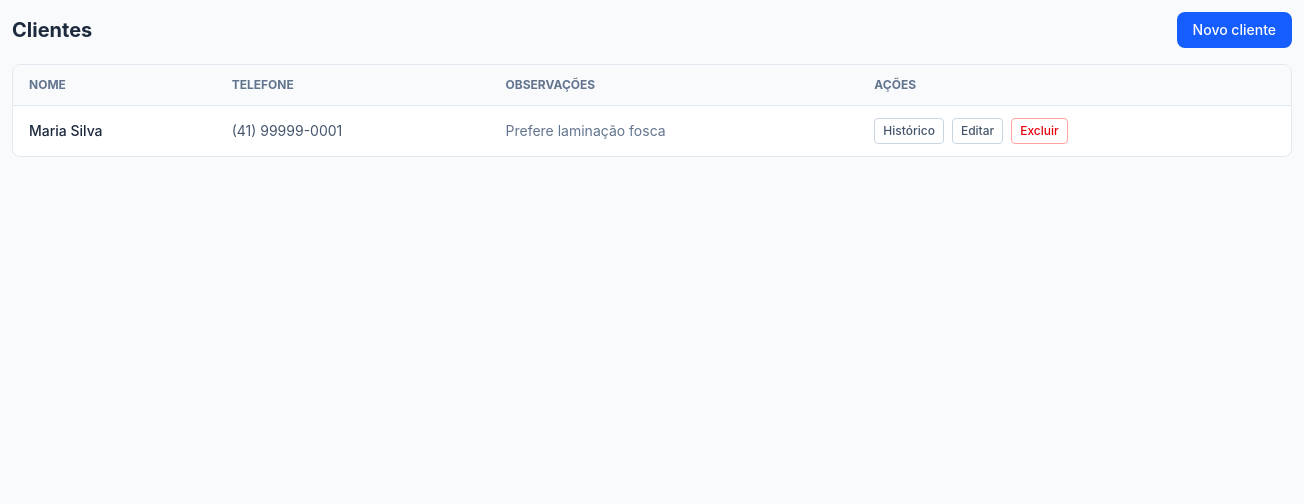
Test case: ClientesPage — criar e editar › cria cliente pelo formulário
Check: the text "Maria Silva" is shown, box x1=13 y1=106 x2=216 y2=156
Step 1. Click the button "Novo cliente" → (1234, 30), box x1=1177 y1=12 x2=1292 y2=48
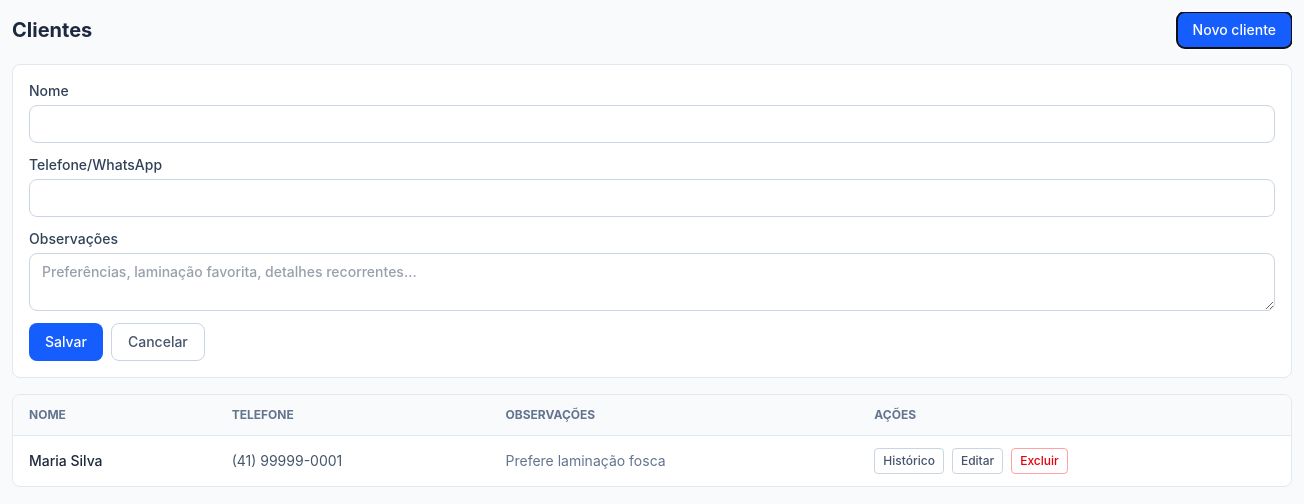
Step 2. Type "Joana Lima" into the field labelled "Nome" → (652, 124), box x1=29 y1=105 x2=1275 y2=143
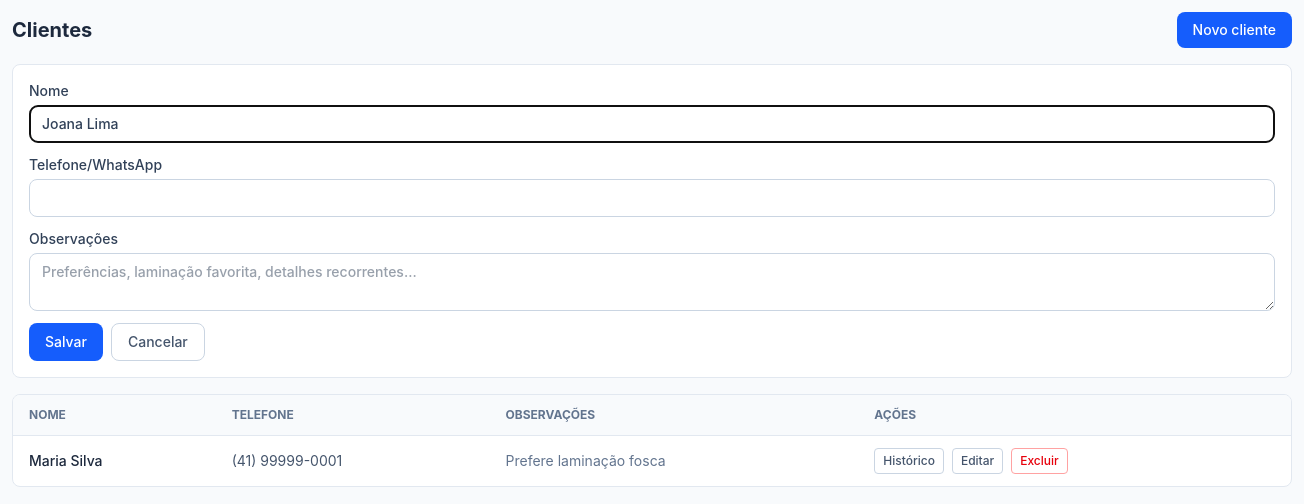
Step 3. Type "(41) 97777-0003" into the field labelled "Telefone/WhatsApp" → (652, 198), box x1=29 y1=179 x2=1275 y2=217
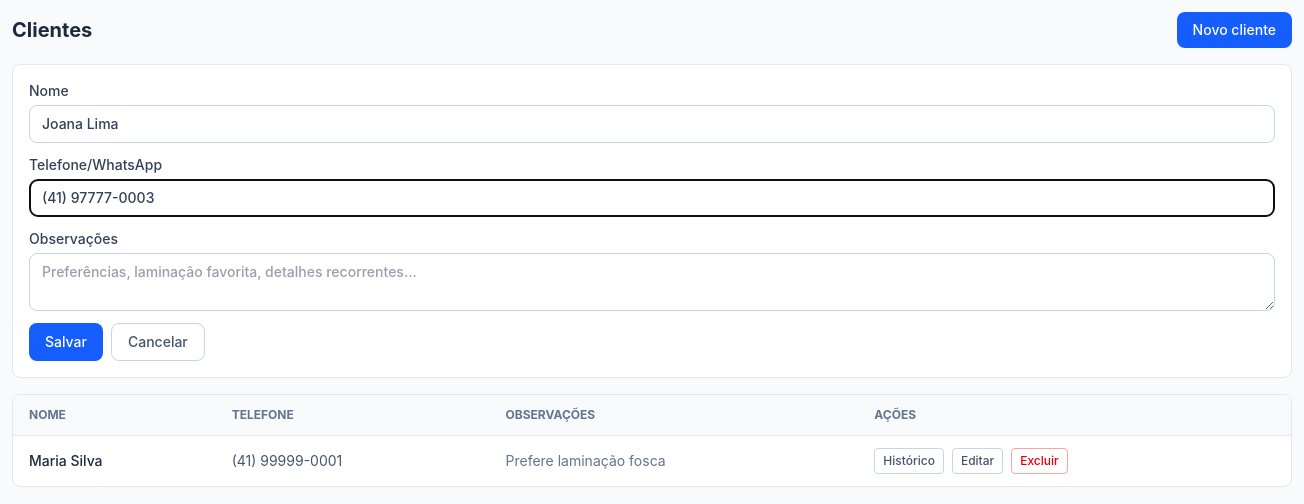
Step 4. Click the button "Salvar" → (66, 342), box x1=29 y1=323 x2=103 y2=361
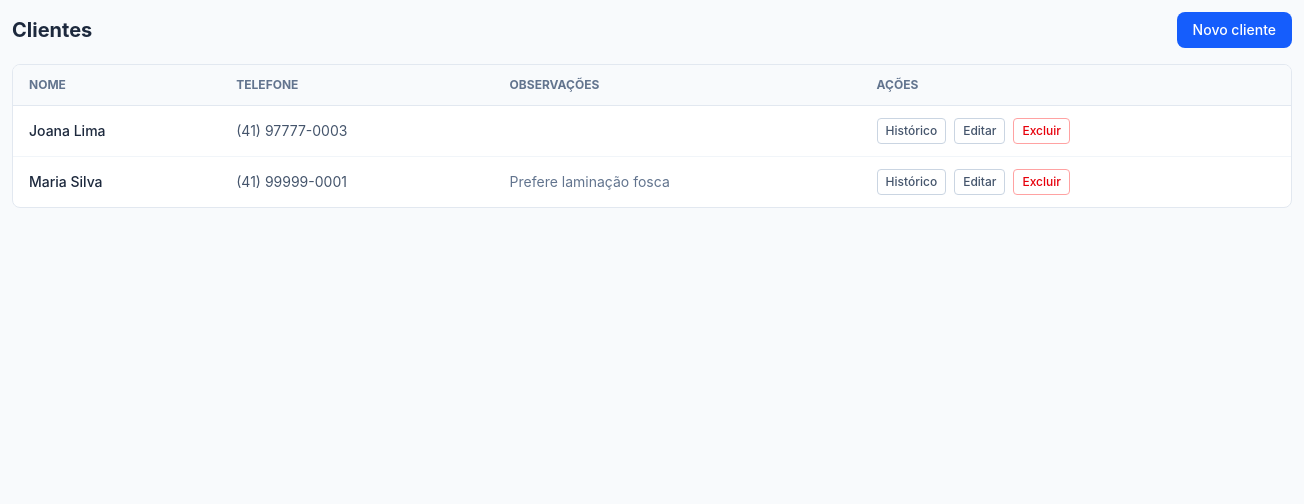
Check: the text "Joana Lima" is shown, box x1=13 y1=106 x2=220 y2=156
